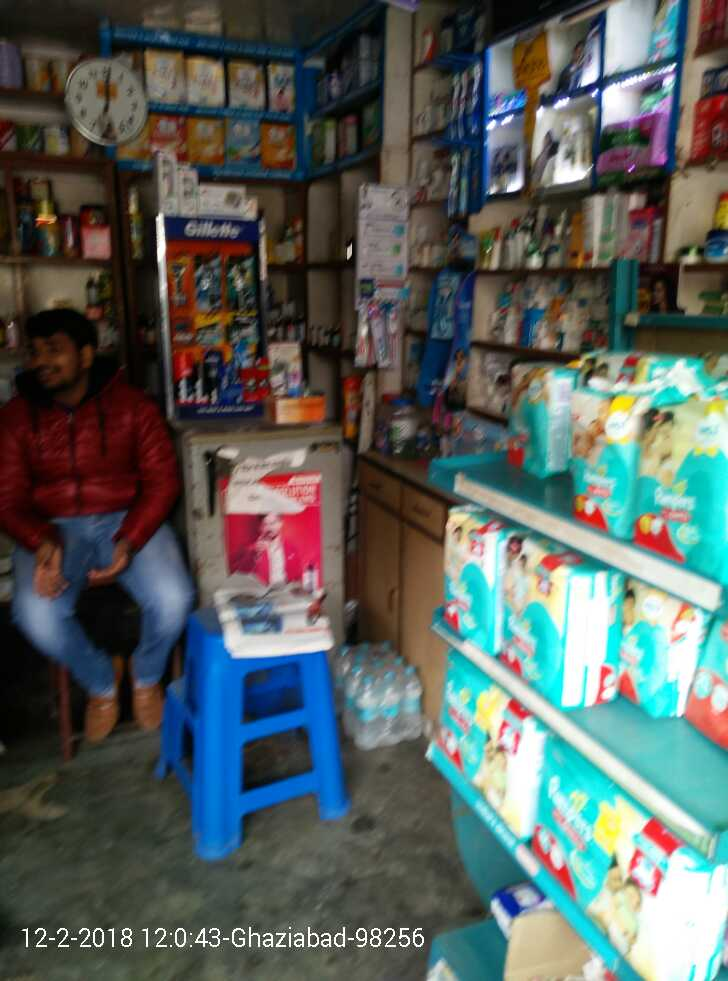beauty: (189, 236, 228, 320), (222, 248, 262, 319), (165, 243, 192, 318), (174, 331, 193, 414)
pharmacy: (500, 535, 611, 705), (427, 657, 539, 814), (636, 402, 728, 580), (560, 395, 637, 534), (501, 359, 576, 470), (433, 525, 500, 638)
